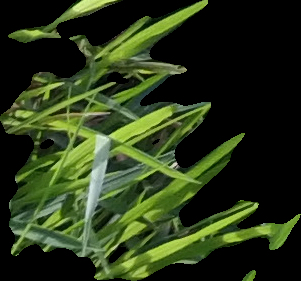grass: (1, 1, 299, 278)
